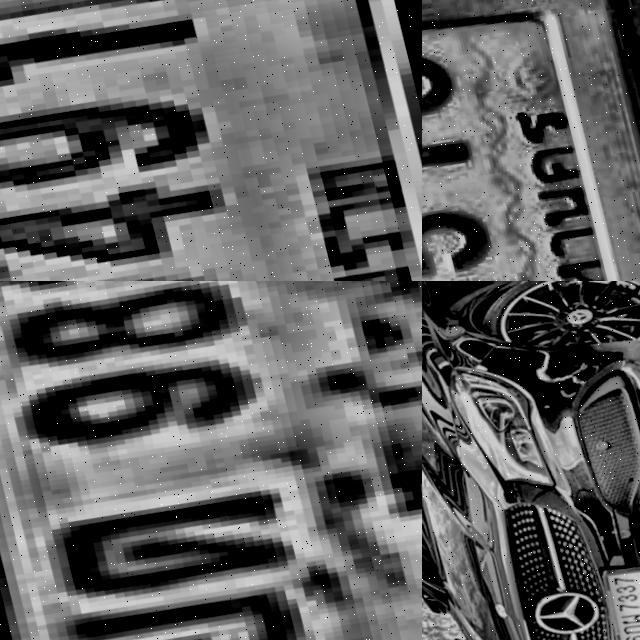license-plate: (0, 281, 422, 640), (0, 0, 422, 281), (422, 0, 640, 281), (600, 546, 640, 640)
